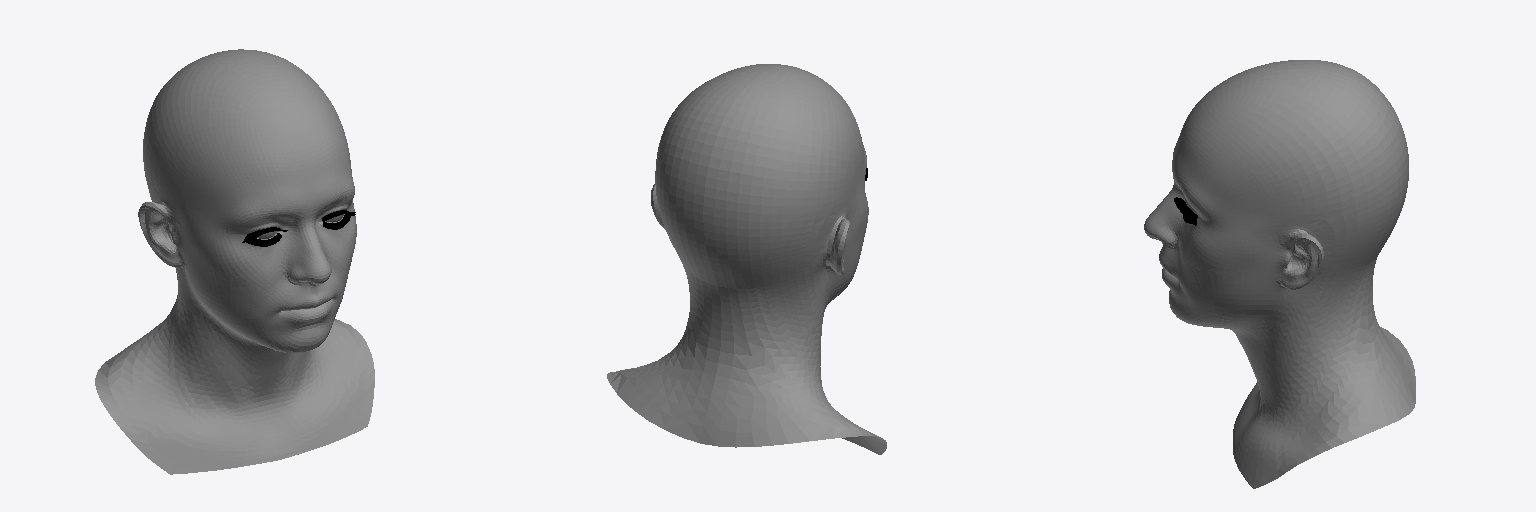
File: identity085.obj
The picture shows the model from 3 angles: view 1: azimuth 30°, elevation 25°; view 2: azimuth 150°, elevation 25°; view 3: azimuth 270°, elevation 25°; orthographic projection.
Size of the model in its own units: 24.83 by 33.81 by 22.32.